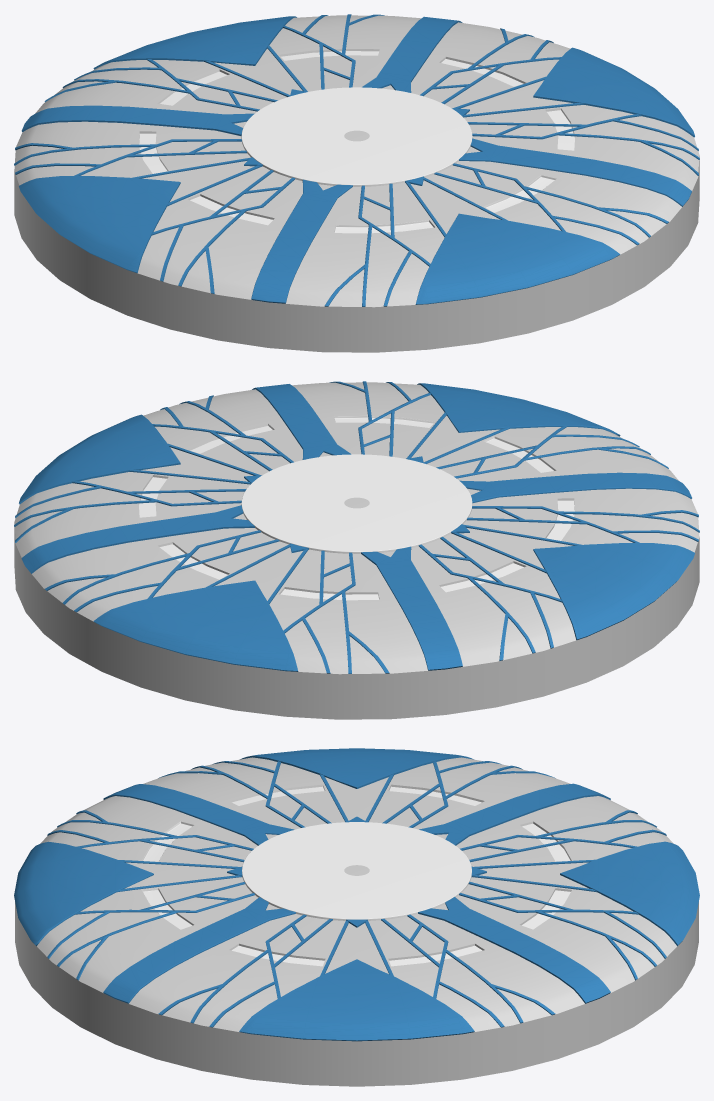
File: a_sch_2_entrance01_bottom01.gltf
The picture shows the model from 3 angles, top to bottom: view 1: azimuth 30°, elevation 25°; view 2: azimuth 150°, elevation 25°; view 3: azimuth 270°, elevation 25°; orthographic projection.
Visible parts, largest first — view 1: a_sch_2_entrance01_bottom01_mesh_shape:a_sch_2_entrance01_ba (×3); view 2: a_sch_2_entrance01_bottom01_mesh_shape:a_sch_2_entrance01_ba (×3); view 3: a_sch_2_entrance01_bottom01_mesh_shape:a_sch_2_entrance01_ba (×3).
Boxes of the visible parts, x1,y1,x2,y2 form: a_sch_2_entrance01_bottom01_mesh_shape:a_sch_2_entrance01_ba (×3): [14, 14, 699, 352]; a_sch_2_entrance01_bottom01_mesh_shape:a_sch_2_entrance01_ba (×3): [14, 381, 699, 719]; a_sch_2_entrance01_bottom01_mesh_shape:a_sch_2_entrance01_ba (×3): [14, 748, 699, 1086].
Bounding box in the file's own units: 596 × 68.93 × 596.
3 materials, 1 textured.
